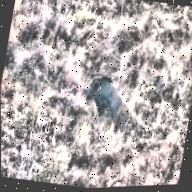boar: (78, 58, 133, 128)
